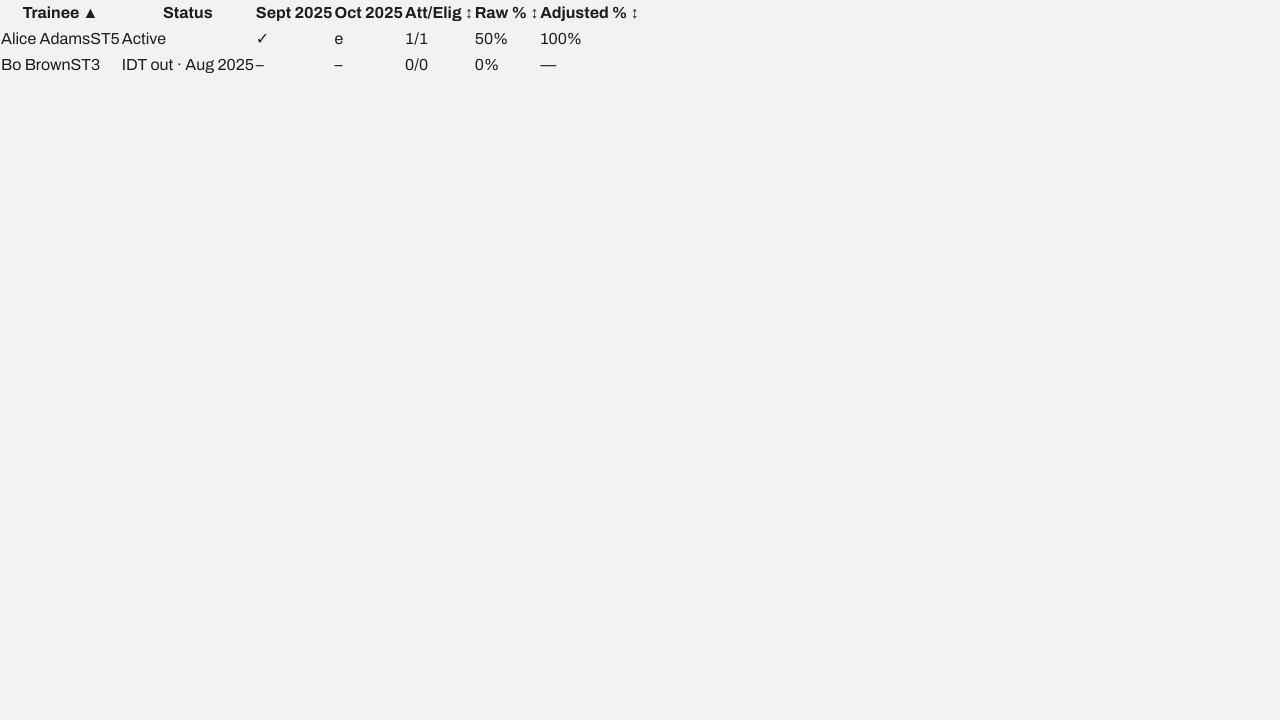
Test: AttendanceTable › explains a cell before changing it when the press came from a finger
Click the text with class "dot" showing "✓": (263, 38) [256, 30, 269, 47]
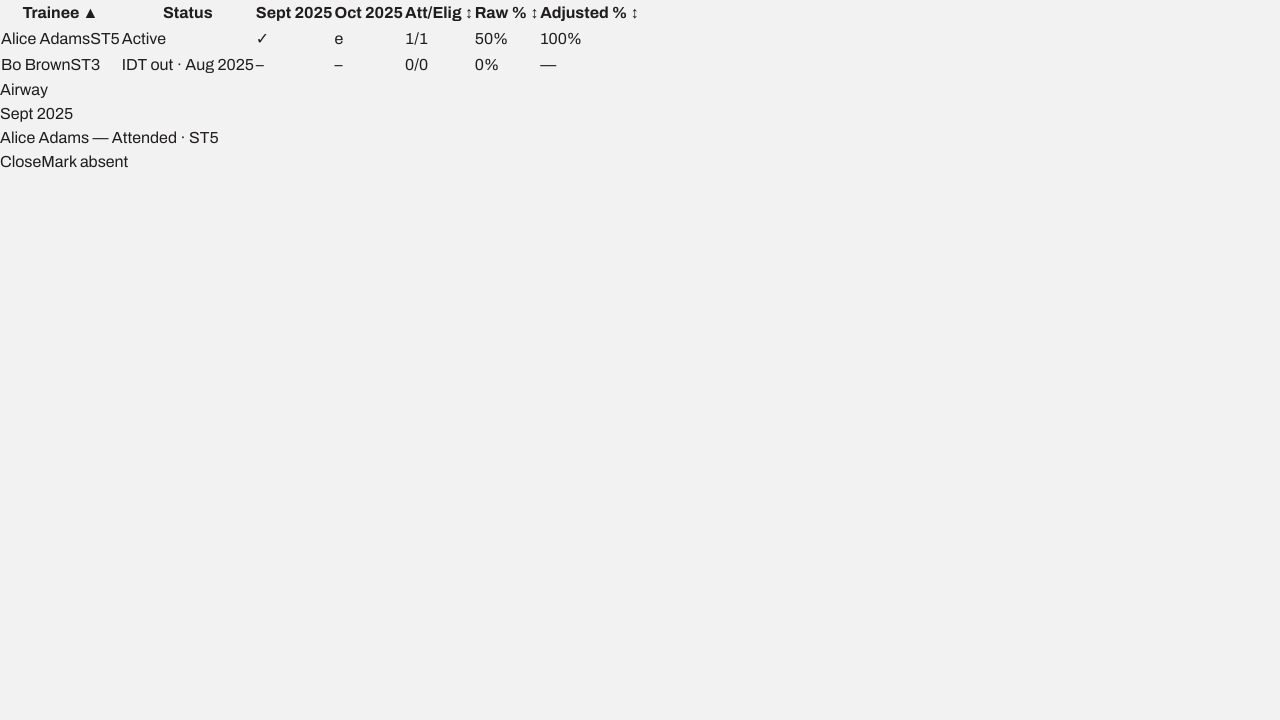
Expected: the dialog with id "cellPop" is shown, [0, 81, 219, 174]
